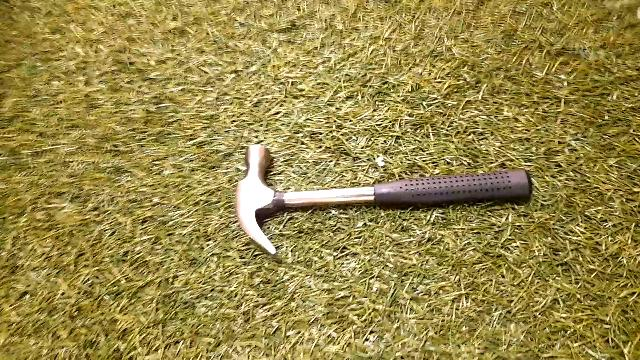hammer: (233, 140, 532, 244)
